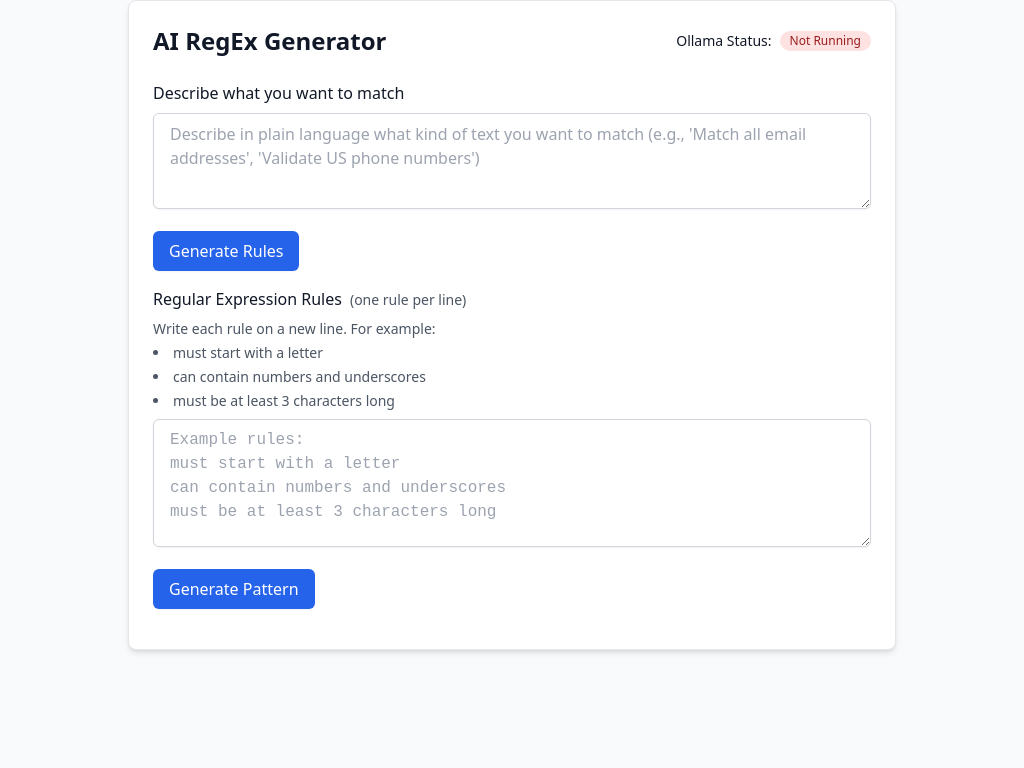
Test: HomePage › shows an error when generation fails
# Enter a description
Replace the text in the text box with placeholder "Describe in plain language" with "Match email addresses" at coordinates (512, 161), box [153,113,871,209]
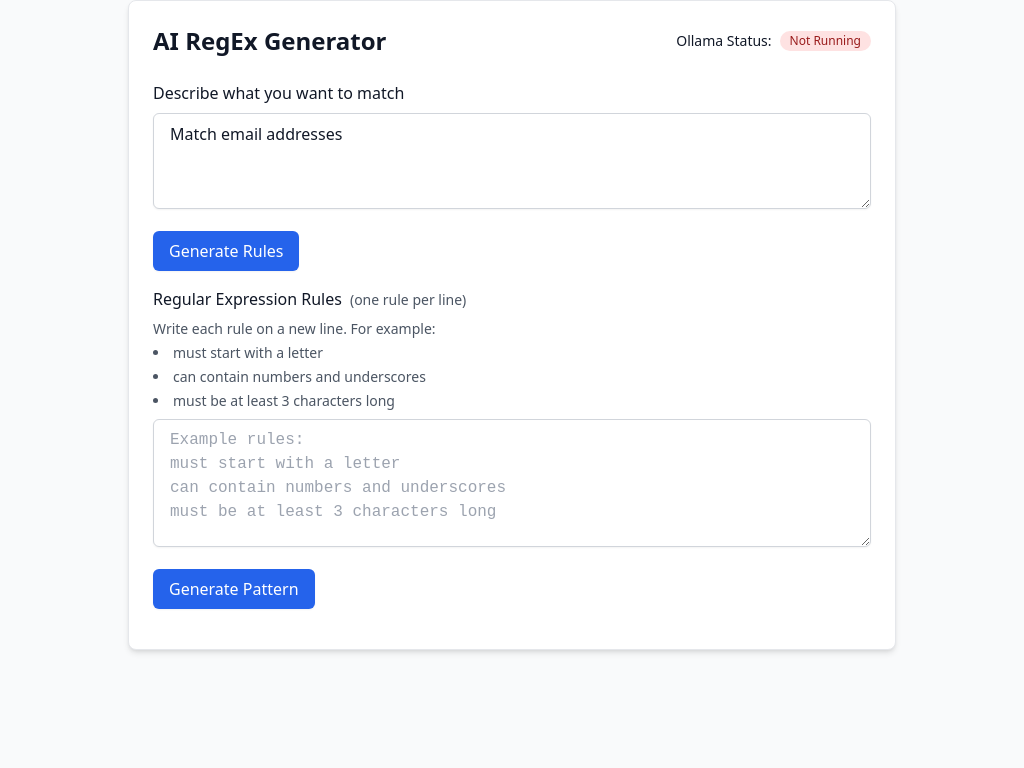
# Click the generate button
Click the button "Generate Pattern" at coordinates (234, 589), box [153,569,314,609]
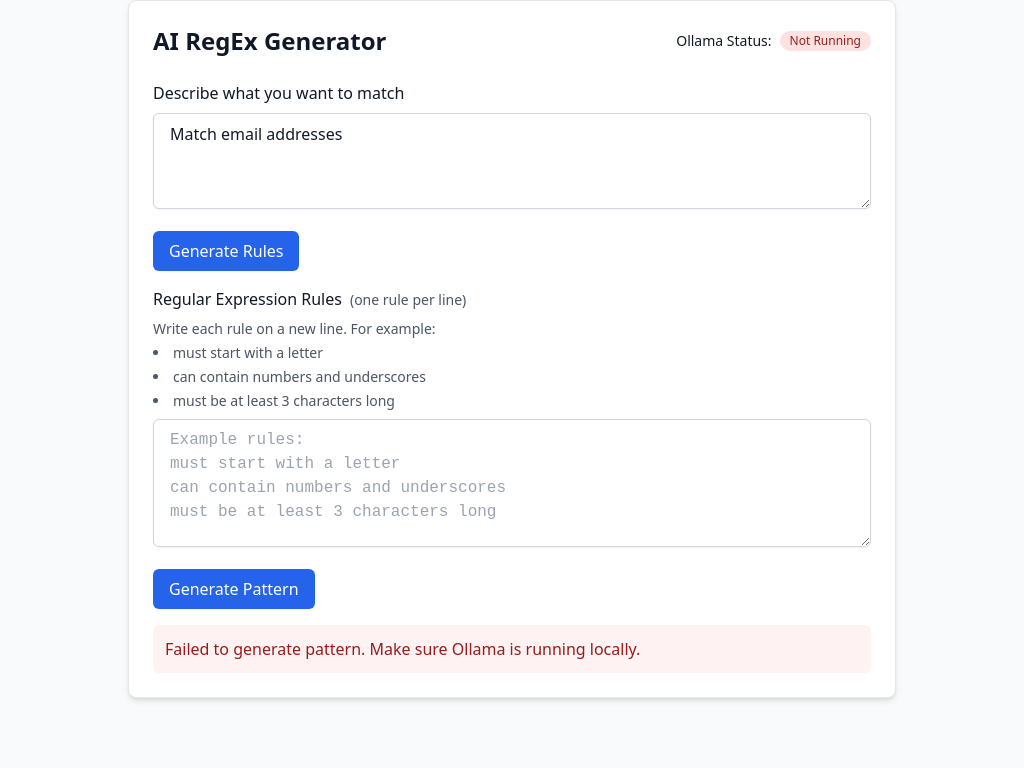
Now the text "Failed to generate pattern" is shown, box [165,638,640,660]
